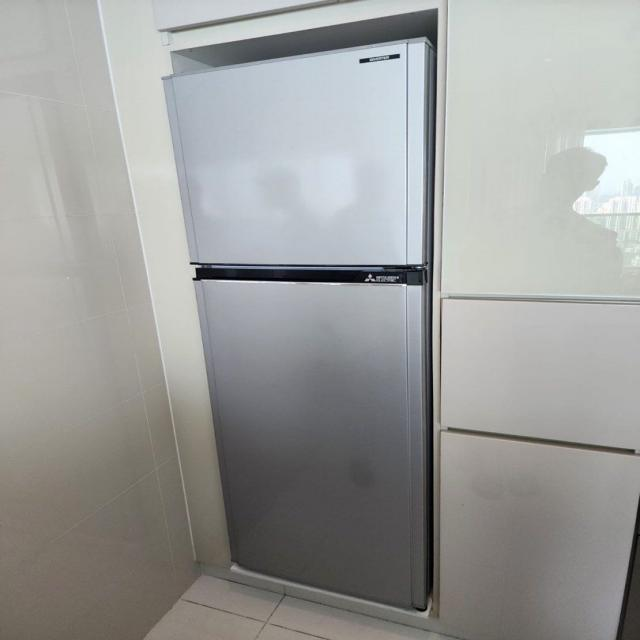refrigerator: (160, 34, 432, 624)
